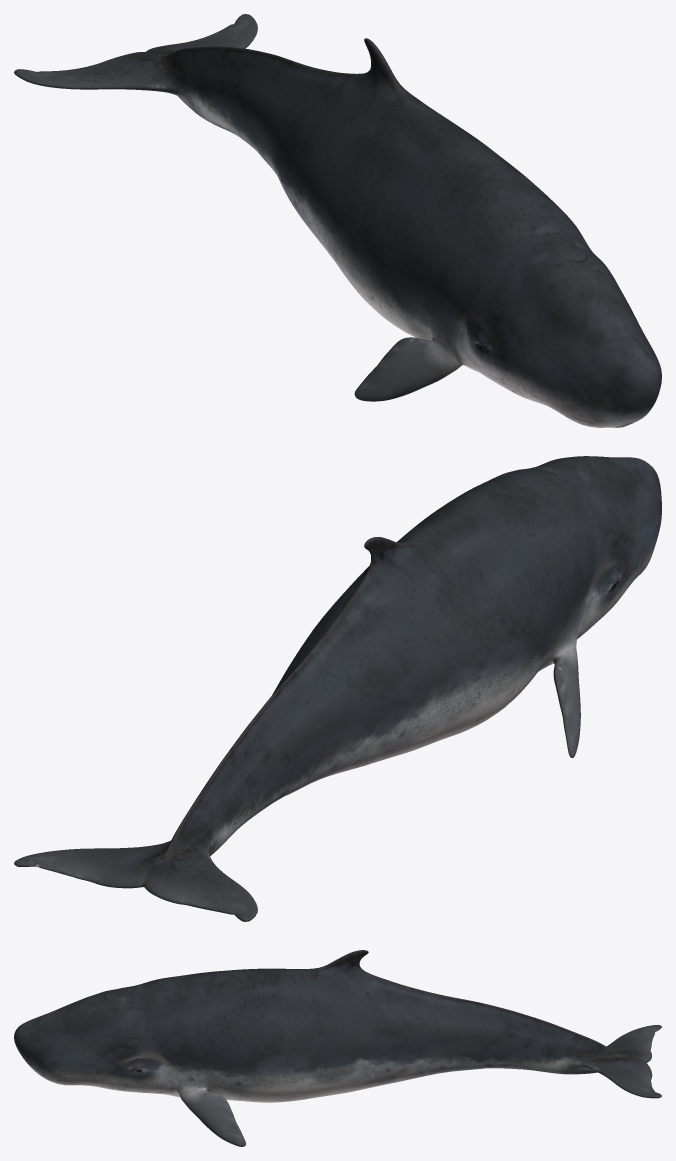
File: model-kogia-breviceps.glb
3 views of the same model, one above another, from view 1: azimuth 30°, elevation 25°; view 2: azimuth 150°, elevation 25°; view 3: azimuth 270°, elevation 25° (orthographic). The views are drawn at different scales.
Parts seen in each view (by area): view 1: polySurface1; view 2: polySurface1; view 3: polySurface1.
Boxes of the visible parts, x1,y1,x2,y2 form: polySurface1: [14, 14, 661, 427]; polySurface1: [14, 456, 661, 921]; polySurface1: [14, 950, 661, 1146].
Bounding box in the file's own units: 0.9146 × 0.9719 × 3.48.
1 material, 1 textured.
